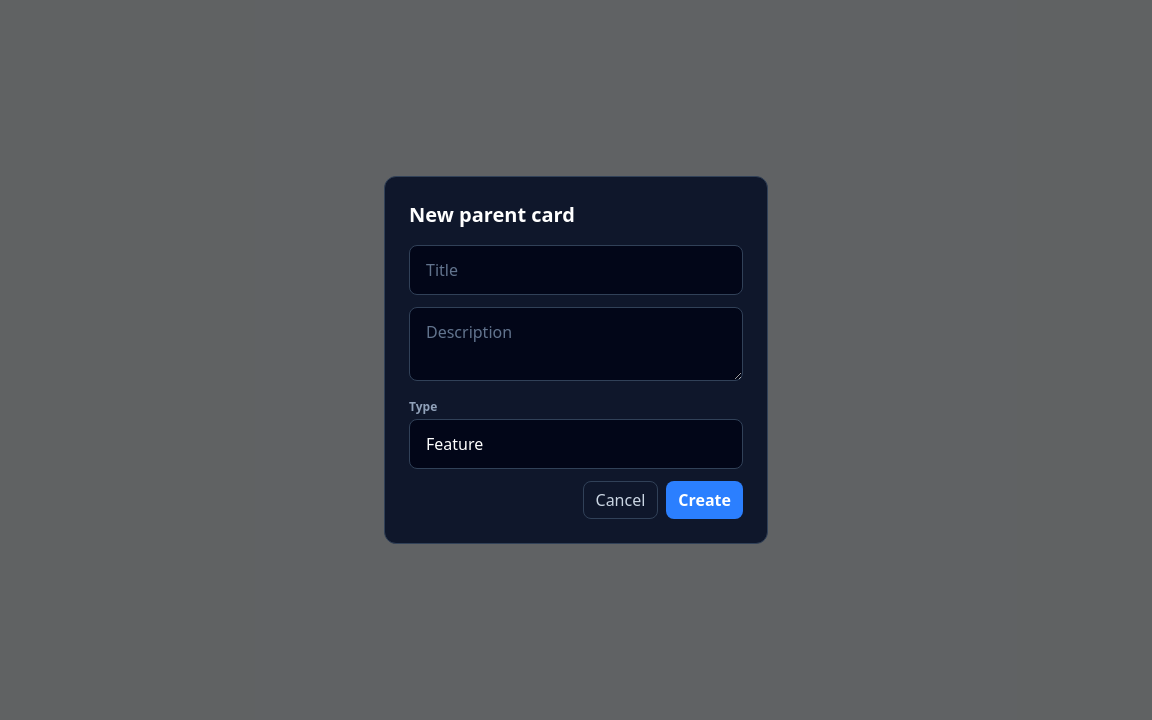
Test case: CreateRelatedTaskModal › surfaces an error and does not PATCH when the create response has no id
Type "Bigger feature" into the field with placeholder "Title".
click(576, 270); type("Bigger feature")  # box top-left (409, 245), bottom-right (743, 295)
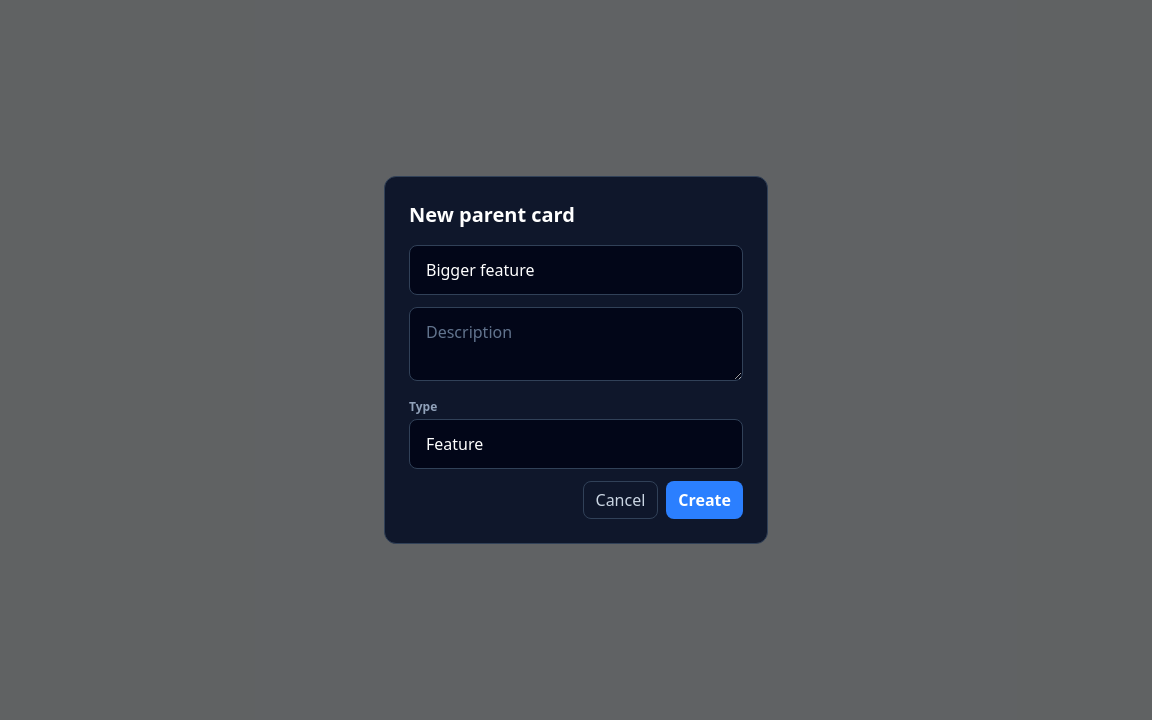
Click the button "Create".
click(705, 500)  # box top-left (666, 481), bottom-right (743, 519)
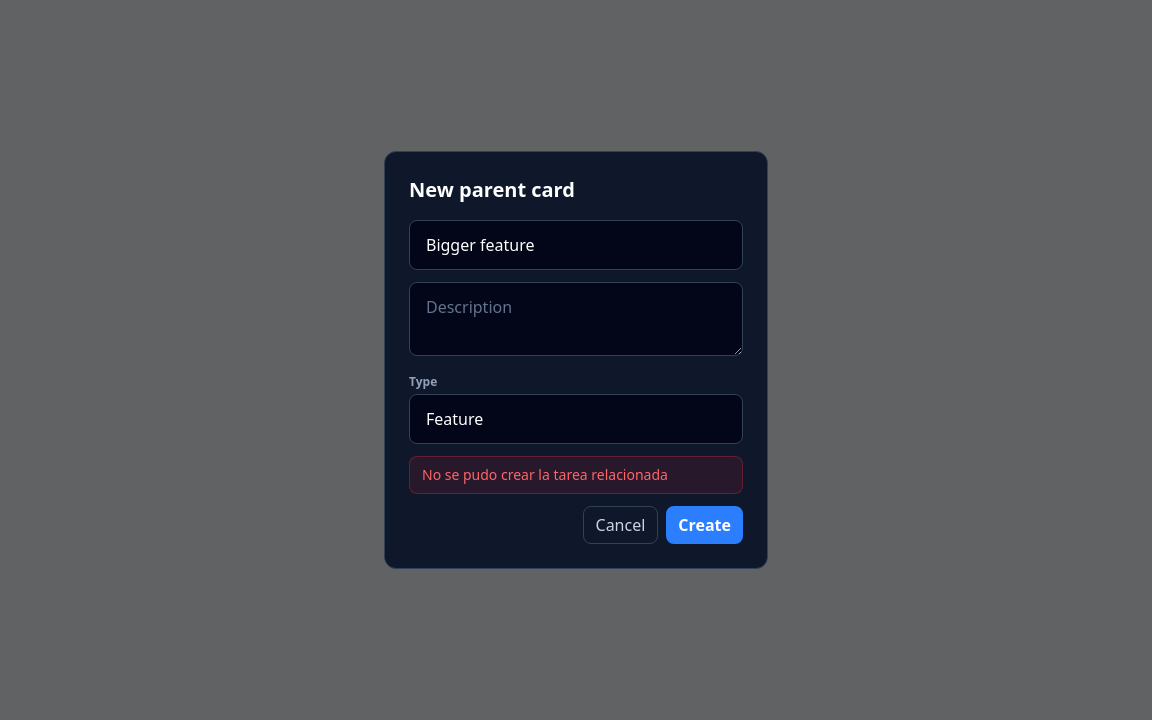
expect the text "No se pudo crear la tarea relacionada" is shown: met, box top-left (409, 456), bottom-right (743, 494)
